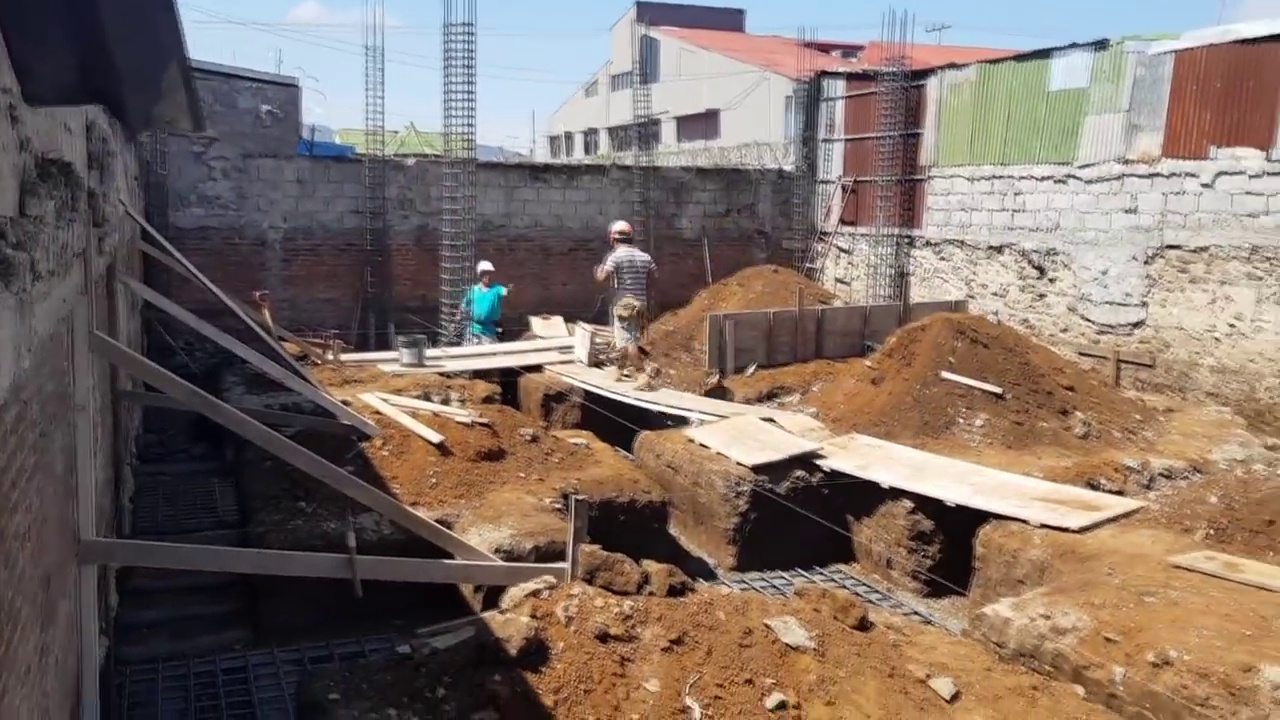helmet: (609, 221, 634, 242), (475, 260, 495, 278)
helmet-on: (609, 221, 638, 251), (475, 260, 495, 291)
person: (593, 221, 657, 373), (458, 259, 510, 347)
